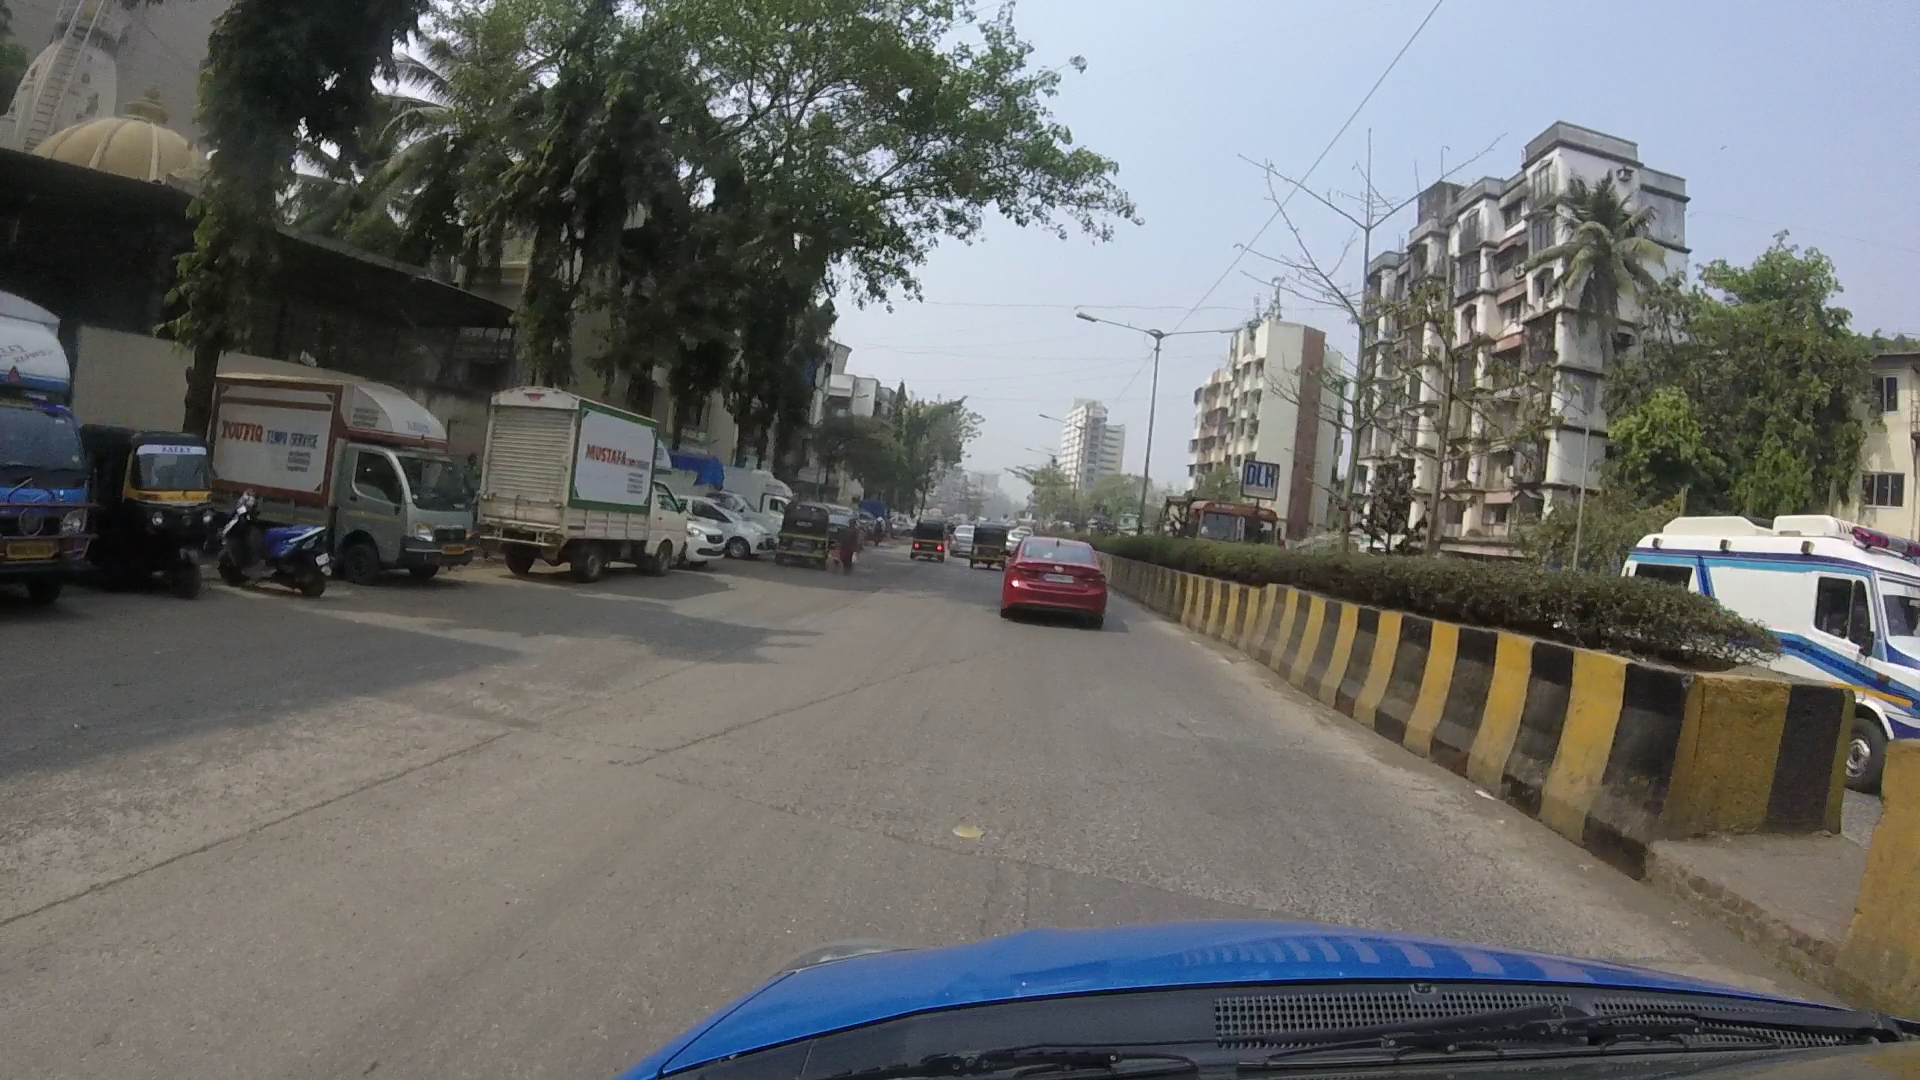car: (1000, 527, 1102, 622)
rickshaw: (80, 419, 214, 592), (781, 495, 862, 563)
truck: (211, 351, 469, 578), (465, 386, 699, 583)
